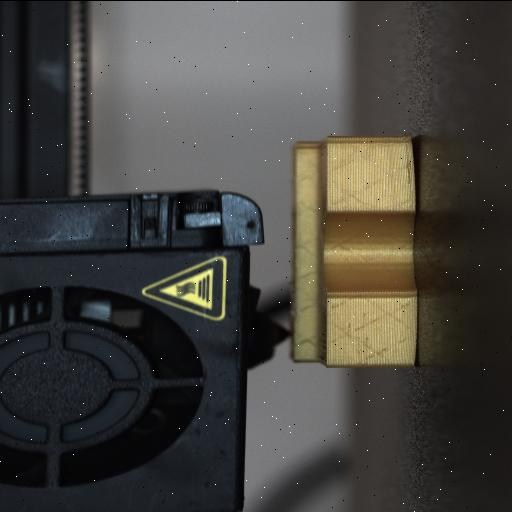warp: (398, 130, 422, 186), (406, 344, 422, 368)
